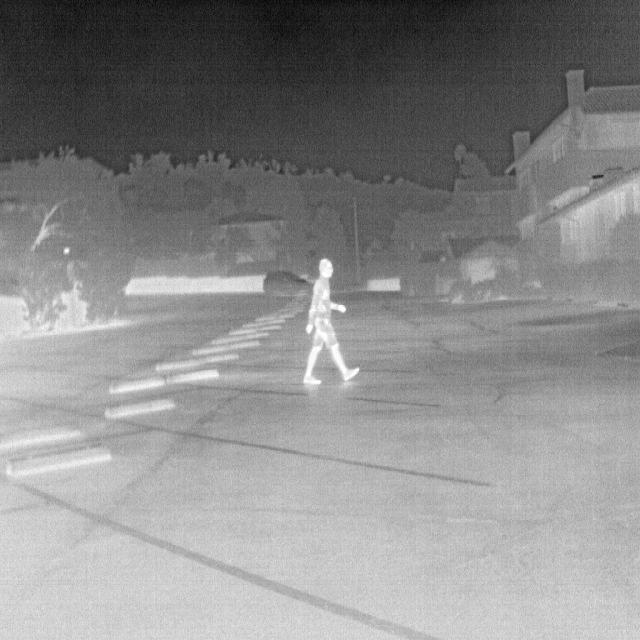Pedestrian: (302, 257, 360, 383)
